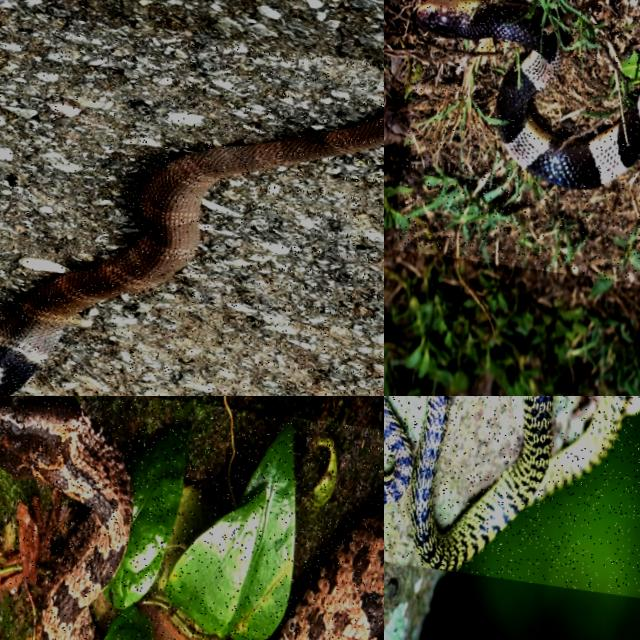Bungarus candidus: (416, 0, 639, 189)
Chrysopelea ornata: (411, 396, 628, 568)
Naja siamensis: (0, 116, 383, 395)
Ovophis monticola: (0, 396, 132, 639)
snake: (0, 116, 383, 395), (416, 0, 639, 189), (411, 396, 628, 568), (0, 396, 132, 639)
